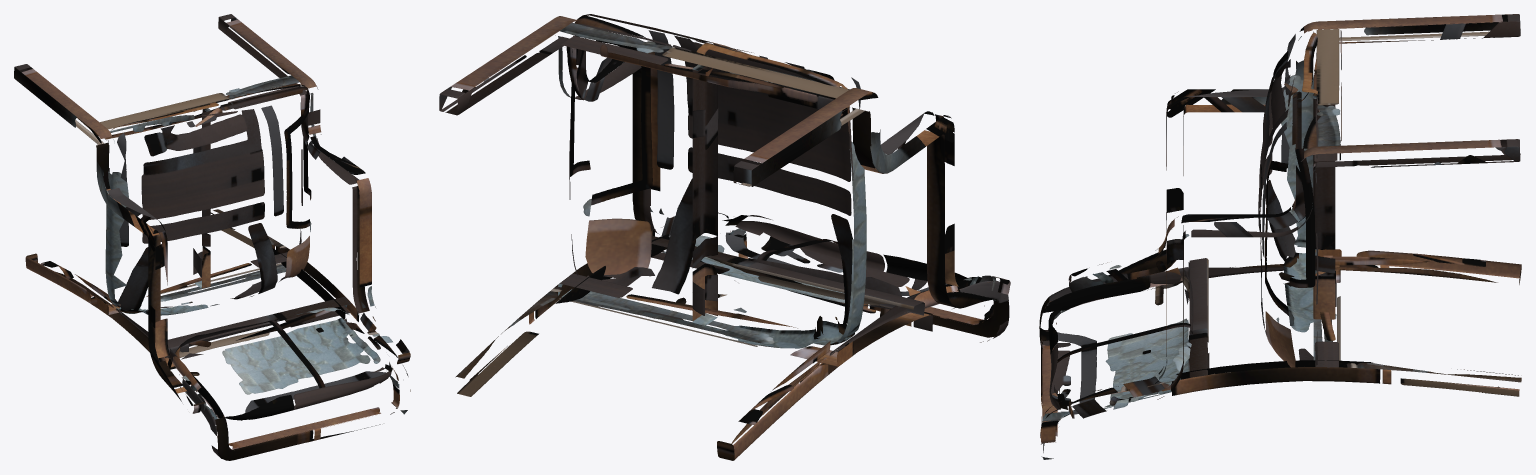
The picture shows the model from 3 angles, left to right: view 1: azimuth 30°, elevation 25°; view 2: azimuth 150°, elevation 25°; view 3: azimuth 270°, elevation 25°; orthographic projection. The views are drawn at different scales.
Bounding box in the file's own units: 0.6 × 0.6938 × 0.9196.
